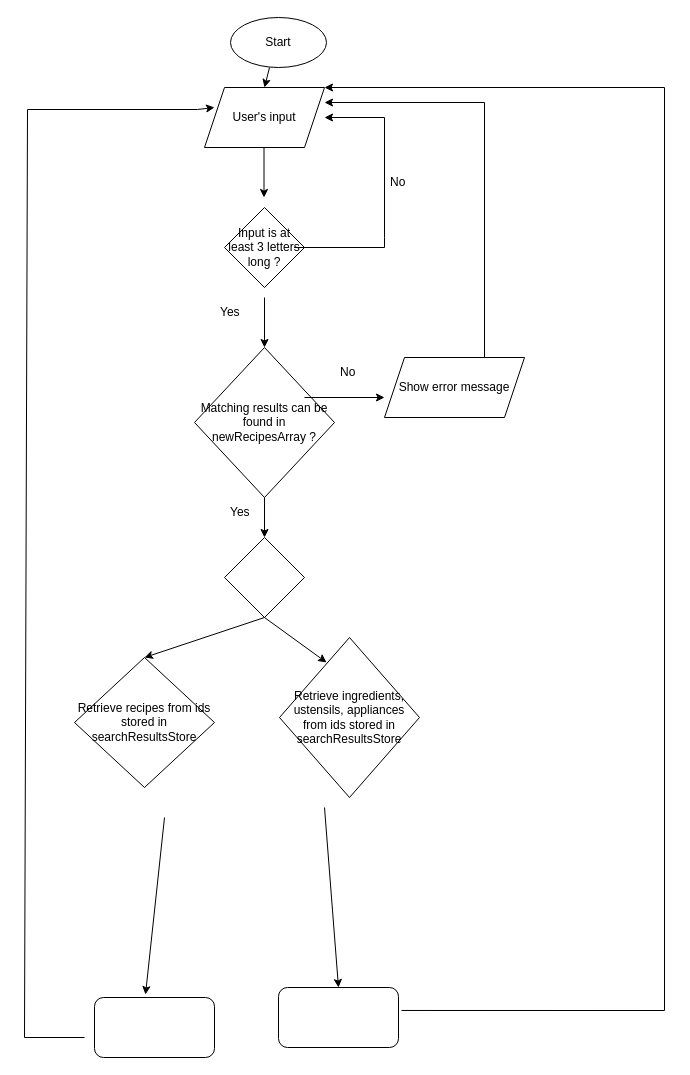
This 690x1075 diagram has some shape labels left out. Here are the shapes that lost their labels. From the top down, the centre of each, then its label:
(x=264, y=577): Store recipes' ids in searchResultsStore
(x=154, y=1027): Display updated recipes
(x=338, y=1017): Display updated tags
